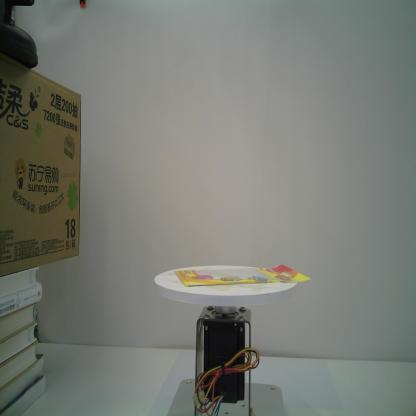Stationery: (171, 260, 314, 291)
